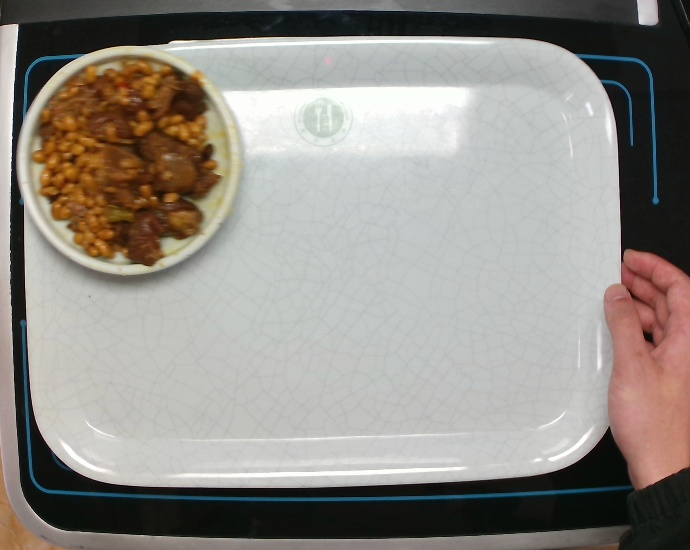JYsf-Xiao_Yuan_Pan: (14, 45, 243, 281)
